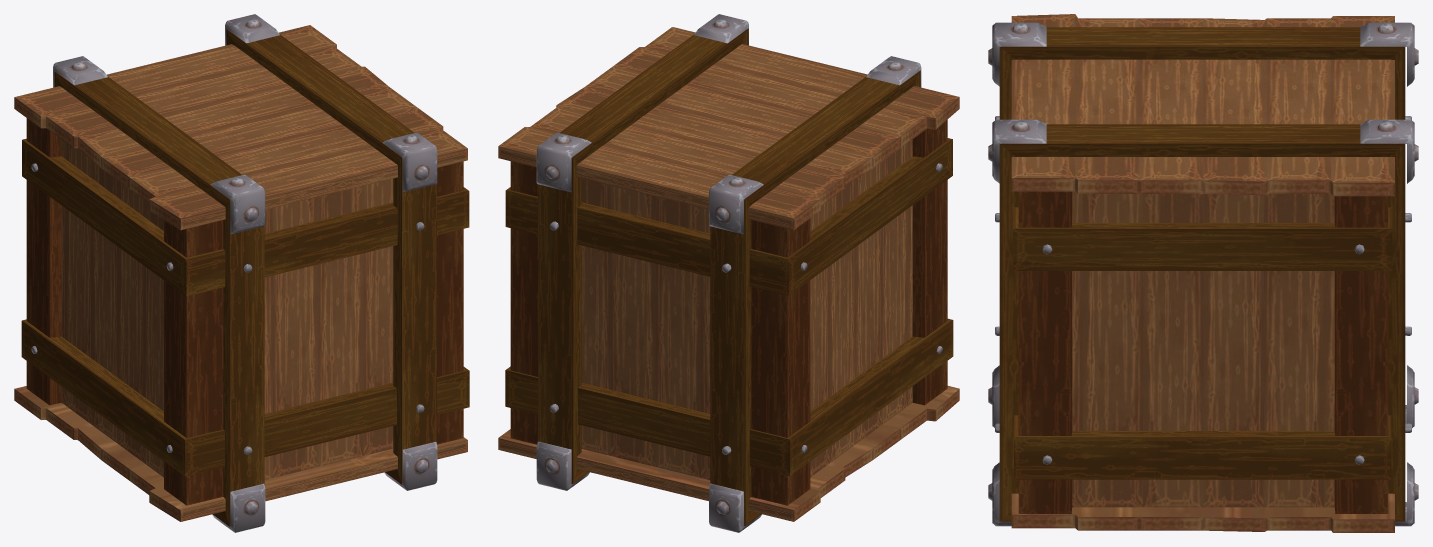
Rendered from Crate_Wooden.gltf.
3 renders of one model, left to right at view 1: azimuth 30°, elevation 25°; view 2: azimuth 150°, elevation 25°; view 3: azimuth 270°, elevation 25°, orthographic. The views are drawn at different scales.
Visible parts, largest first — view 1: Crate_Wooden; view 2: Crate_Wooden; view 3: Crate_Wooden.
Boxes of the visible parts, x1=… form: Crate_Wooden: x1=14, y1=14, x2=469, y2=532; Crate_Wooden: x1=498, y1=14, x2=959, y2=532; Crate_Wooden: x1=988, y1=14, x2=1418, y2=532.
Size of the model in its own units: 0.8423 by 0.9309 by 0.9083.
2 materials, 2 textured.
